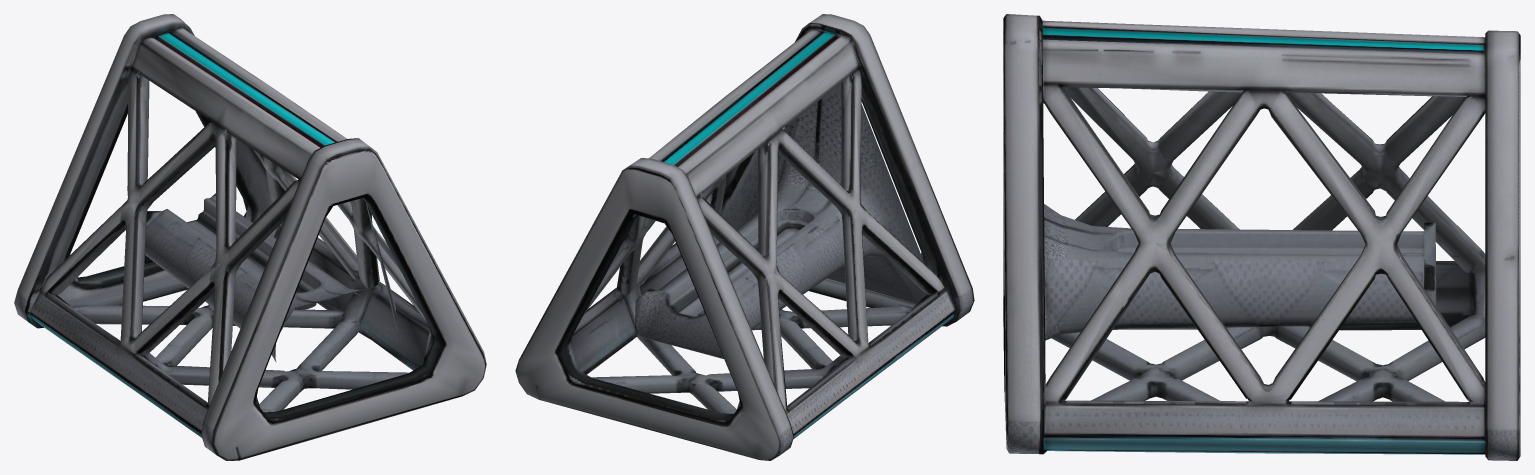
The picture shows the model from 3 angles, left to right: view 1: azimuth 30°, elevation 25°; view 2: azimuth 150°, elevation 25°; view 3: azimuth 270°, elevation 25°; orthographic projection. The views are drawn at different scales.
Visible parts, largest first — view 1: tripo_node_50f9fa7c-c71d-4a8a-9dbe-2907940a8362; view 2: tripo_node_50f9fa7c-c71d-4a8a-9dbe-2907940a8362; view 3: tripo_node_50f9fa7c-c71d-4a8a-9dbe-2907940a8362.
Part boxes in pixels (x1,y1,x2,y2): tripo_node_50f9fa7c-c71d-4a8a-9dbe-2907940a8362: [14, 14, 486, 460]; tripo_node_50f9fa7c-c71d-4a8a-9dbe-2907940a8362: [515, 14, 974, 460]; tripo_node_50f9fa7c-c71d-4a8a-9dbe-2907940a8362: [1003, 14, 1520, 460].
Bounding box in the file's own units: 0.0947 × 0.0934 × 0.1186.
1 material, 1 textured.
